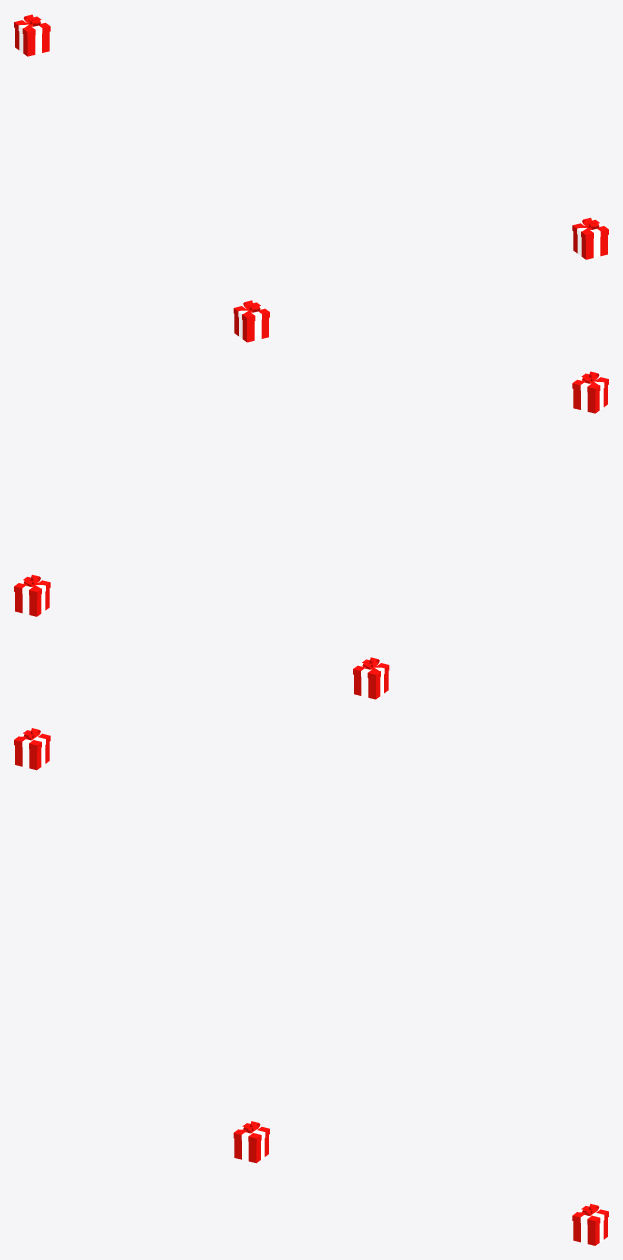
Rendered from MuscleSquareGifts.glb.
The picture shows the model from 3 angles, top to bottom: view 1: azimuth 30°, elevation 25°; view 2: azimuth 150°, elevation 25°; view 3: azimuth 330°, elevation 25°; orthographic projection.
Visible parts, largest first — view 1: Cube.020, Cube.019, Cube.021; view 2: Cube.020, Cube.019, Cube.021; view 3: Cube.019, Cube.020, Cube.021.
Boxes of the visible parts, x1,y1,x2,y2 form: Cube.020: (233,300,269,342); Cube.019: (14,14,50,56); Cube.021: (572,217,608,259); Cube.020: (353,657,389,699); Cube.019: (572,371,608,413); Cube.021: (14,574,50,616); Cube.019: (14,728,50,770); Cube.020: (233,1121,269,1163); Cube.021: (572,1204,608,1245).
Size of the model in its own units: 15.42 by 9.39 by 0.617.
